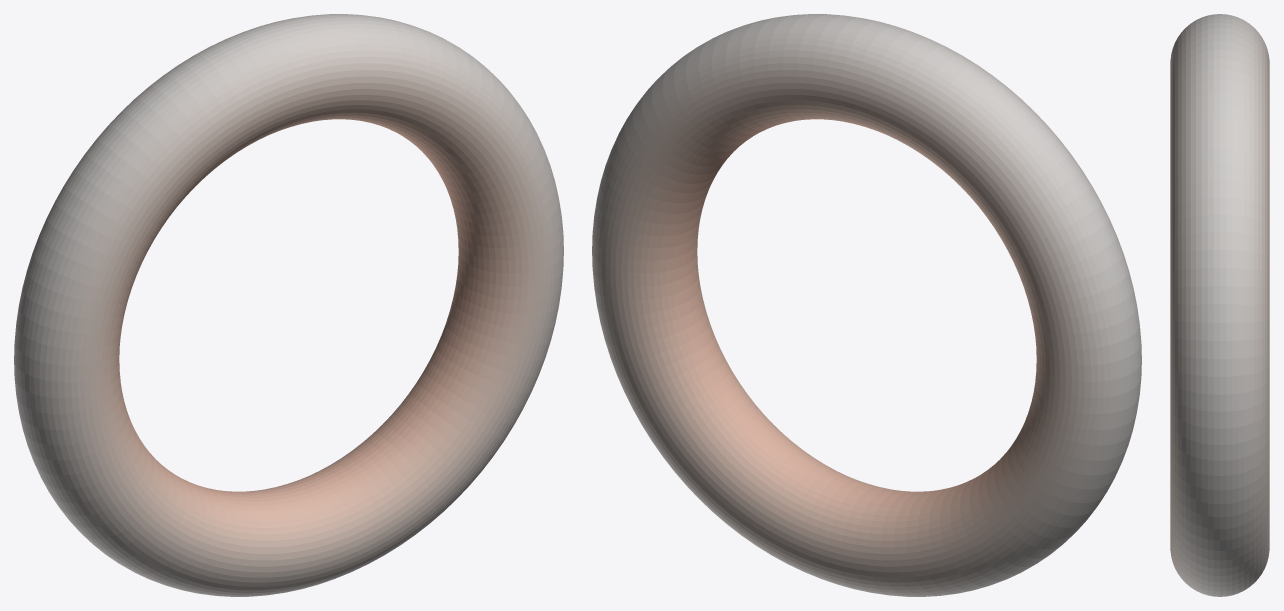
The picture shows the model from 3 angles, left to right: view 1: azimuth 30°, elevation 25°; view 2: azimuth 150°, elevation 25°; view 3: azimuth 270°, elevation 25°; orthographic projection. The views are drawn at different scales.
Visible parts, largest first — view 1: world; view 2: world; view 3: world.
Boxes of the visible parts, x1,y1,x2,y2 form: world: [14, 14, 563, 596]; world: [592, 14, 1141, 596]; world: [1170, 14, 1269, 596].
Bounding box in the file's own units: 30.53 × 30.53 × 5.19.
